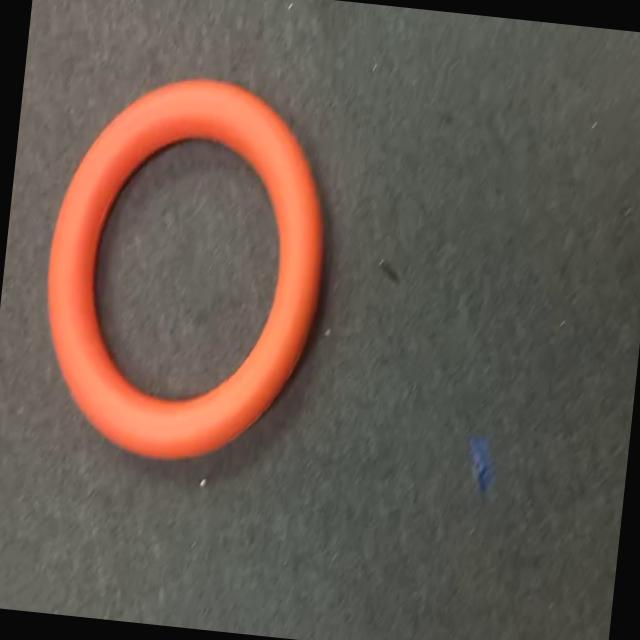note: (12, 62, 353, 500)
